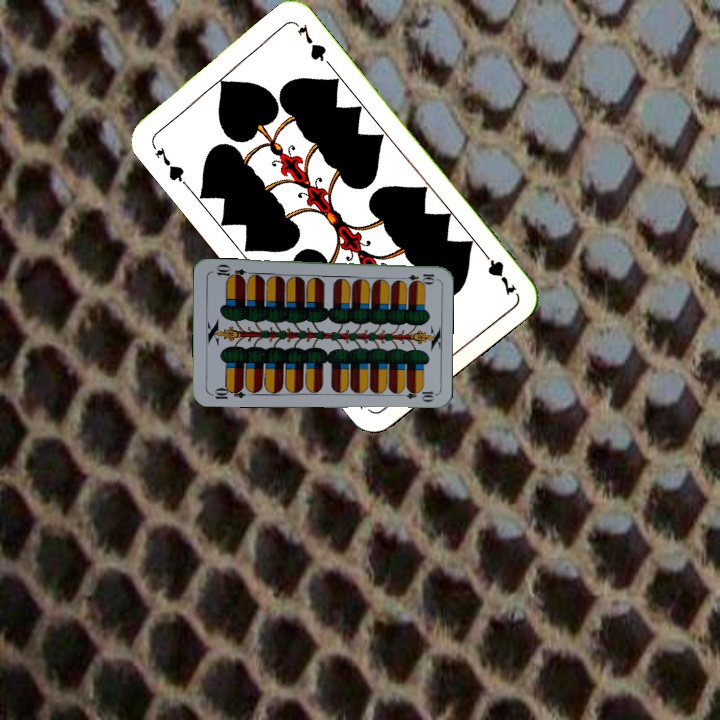E10: (207, 382, 247, 401), (397, 270, 437, 284)
G7: (477, 245, 519, 298), (148, 139, 190, 189)
